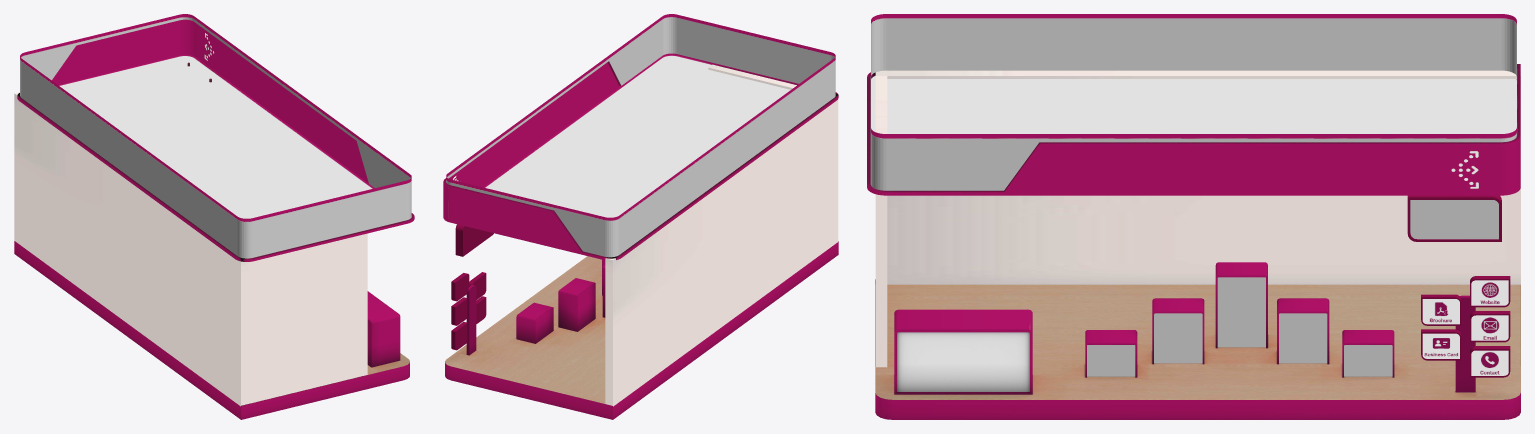
Rendered from Updated color stall.glb.
3 views of the same model, side by side, from view 1: azimuth 30°, elevation 25°; view 2: azimuth 150°, elevation 25°; view 3: azimuth 270°, elevation 25° (orthographic). The views are drawn at different scales.
Visible parts, largest first — view 1: top, wall, base, desk, base wood; view 2: top, wall, base wood, base, Cube, p stand 04, p stand 05, contact stand 02.001; view 3: top, wall, base wood, p stand 01, base, desk, Cube, contact stand 02.001, p stand 03, p stand 04, p stand 02, Cube.009 (+5 smaller).
Part boxes in pixels (left/top/right/bottom): top: left=17, top=14, right=414, bottom=261; wall: left=14, top=92, right=367, bottom=406; base: left=14, top=241, right=409, bottom=419; desk: left=367, top=291, right=400, bottom=367; base wood: left=241, top=353, right=409, bottom=405; top: left=443, top=14, right=838, bottom=260; wall: left=605, top=64, right=838, bottom=406; base wood: left=445, top=256, right=605, bottom=403; base: left=445, top=241, right=838, bottom=419; Cube: left=451, top=224, right=493, bottom=350; p stand 04: left=558, top=278, right=595, bottom=331; p stand 05: left=516, top=302, right=553, bottom=343; contact stand 02.001: left=466, top=285, right=476, bottom=355; top: left=867, top=14, right=1520, bottom=195; wall: left=875, top=70, right=1520, bottom=367; base wood: left=875, top=279, right=1520, bottom=399; p stand 01: left=1085, top=200, right=1498, bottom=377; base: left=875, top=393, right=1520, bottom=419; desk: left=894, top=309, right=1032, bottom=394; Cube: left=1407, top=195, right=1510, bottom=377; contact stand 02.001: left=1455, top=295, right=1475, bottom=392; p stand 03: left=1215, top=262, right=1267, bottom=348; p stand 04: left=1277, top=298, right=1329, bottom=364; p stand 02: left=1152, top=298, right=1204, bottom=364; Cube.009: left=1471, top=315, right=1508, bottom=340.
Size of the model in its own units: 8.72 by 9.42 by 19.54.
20 materials, 16 textured.
